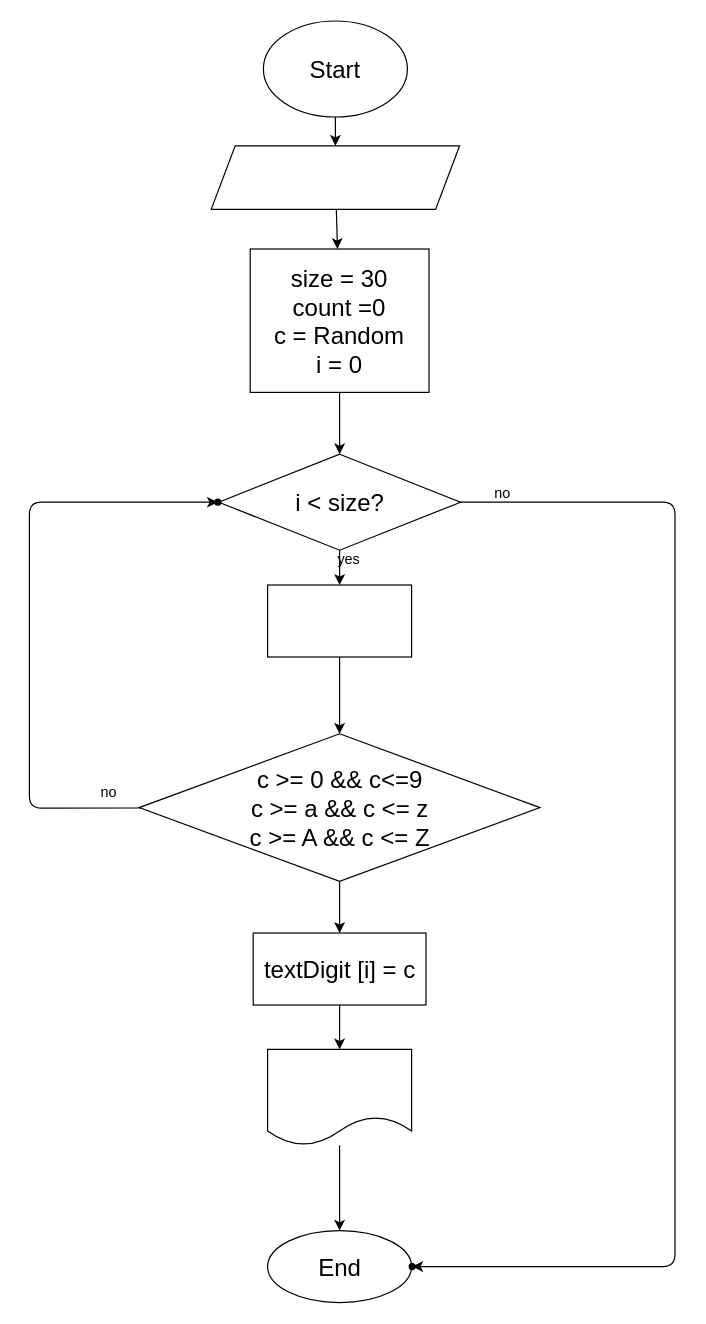
Image size: 706x1324. Some labels were removed from this diagram. The box of each missing label's shape, as (x1, y1, x2, y2) in pixels:
i++: (266, 584, 412, 657)
textDigit: (266, 1048, 412, 1145)
textDigit [size]: (210, 145, 460, 209)
